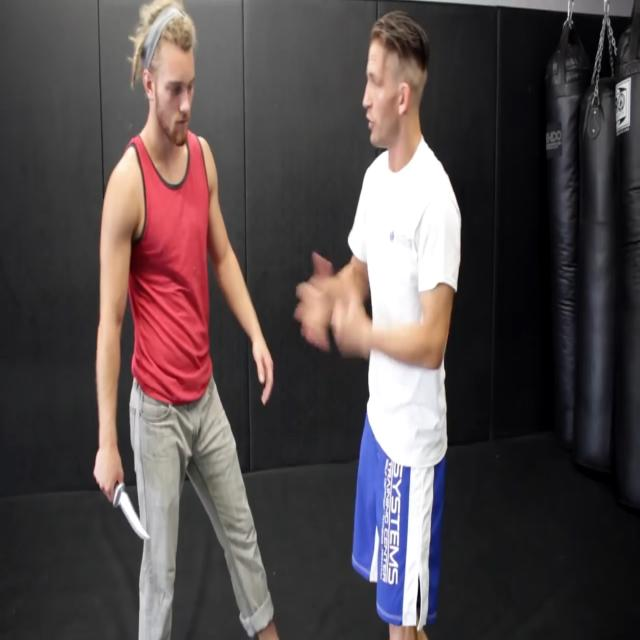knife: (112, 480, 156, 549)
